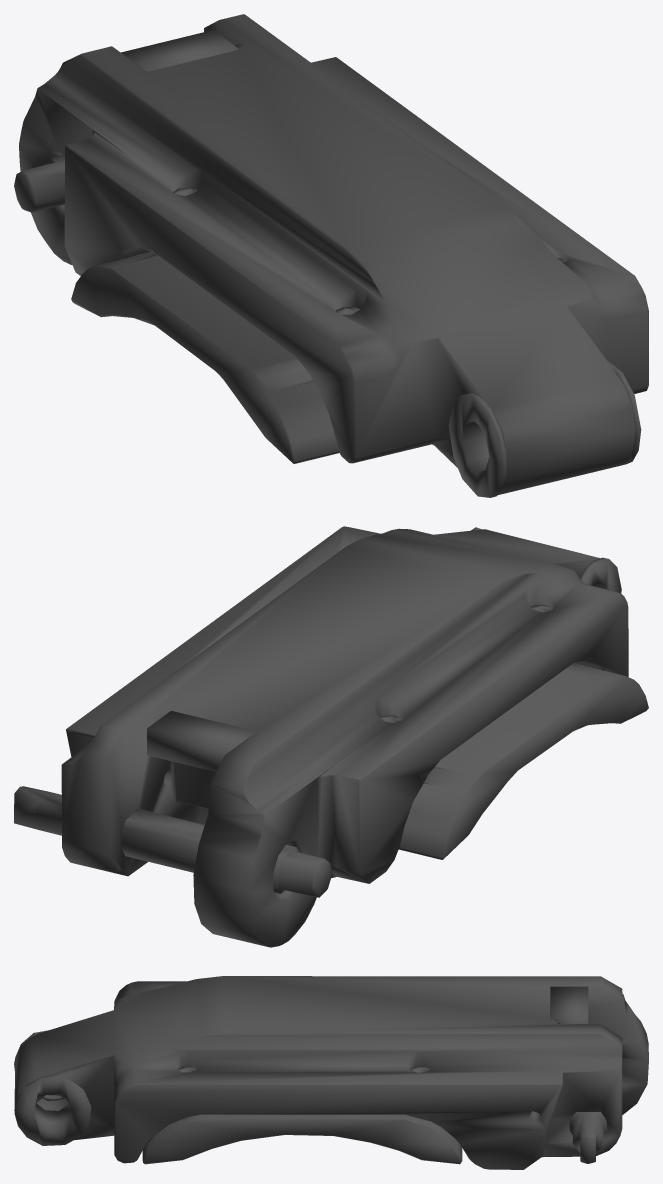
File: r_proximal.obj
3 views of the same model, one above another, from view 1: azimuth 30°, elevation 25°; view 2: azimuth 150°, elevation 25°; view 3: azimuth 270°, elevation 25° (orthographic). The views are drawn at different scales.
Visible parts, largest first — view 1: Right_Proximal_Right_Proximal.000; view 2: Right_Proximal_Right_Proximal.000; view 3: Right_Proximal_Right_Proximal.000.
Boxes of the visible parts, <box> form: Right_Proximal_Right_Proximal.000: <box>14,14,648,497</box>; Right_Proximal_Right_Proximal.000: <box>14,526,648,947</box>; Right_Proximal_Right_Proximal.000: <box>14,976,648,1169</box>.
Size of the model in its own units: 0.04 by 0.02 by 0.0831.
Materials: 1 (1 with a texture image).
